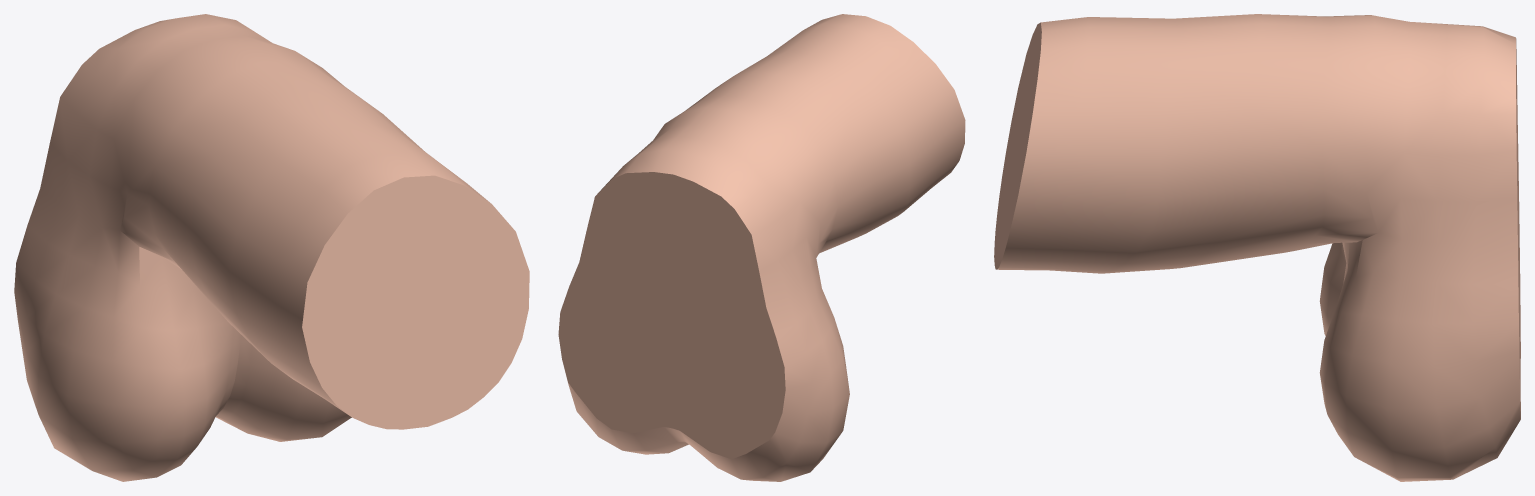
File: BallsBroken.fbx
3 views of the same model, side by side, from view 1: azimuth 30°, elevation 25°; view 2: azimuth 150°, elevation 25°; view 3: azimuth 270°, elevation 25° (orthographic). The views are drawn at different scales.
Visible parts, largest first — view 1: BallsPartially; view 2: BallsPartially; view 3: BallsPartially.
Part boxes in pixels (x1,y1,x2,y2): BallsPartially: (14, 14, 529, 481); BallsPartially: (558, 14, 965, 481); BallsPartially: (994, 14, 1520, 481).
Size of the model in its own units: 6.99 by 8.8 by 10.14.
